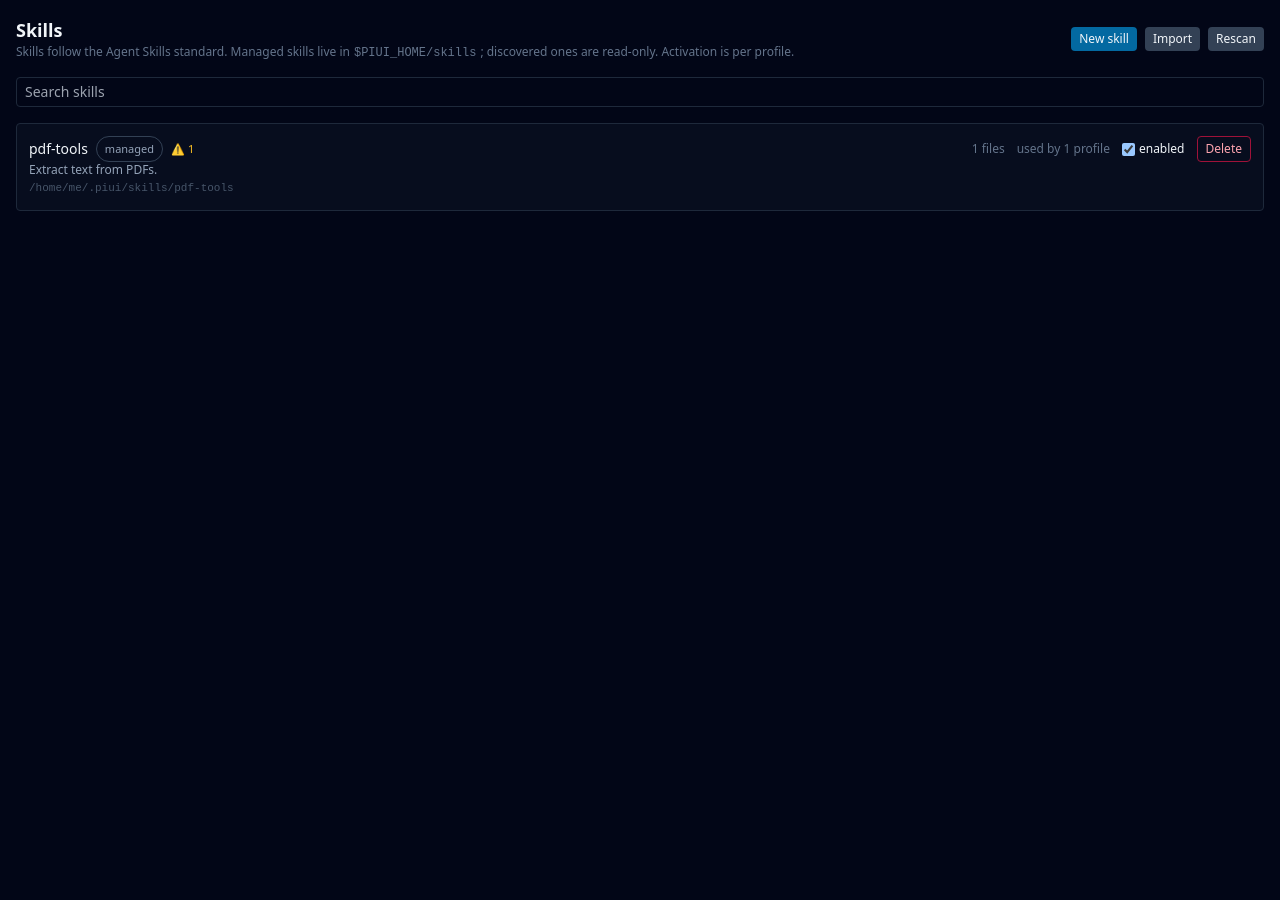
Test: SkillsPage › [05-skills-and-tools#B.5.5] shows the server's refusal when a skill cannot be saved
Click the button with test id "skill-new" at (1104, 38), box [1071,26,1137,50]
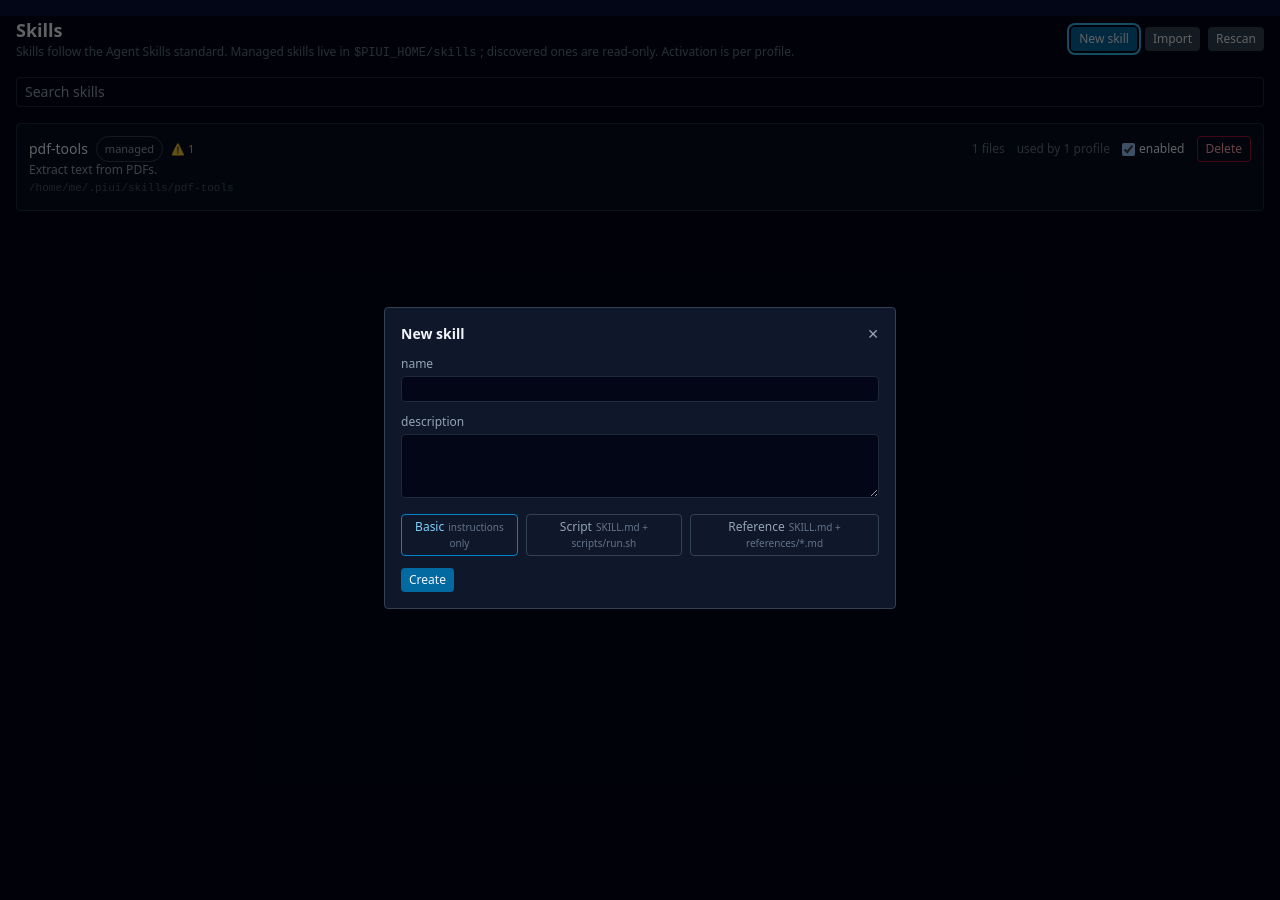
Type "nodesc" into the field with test id "new-skill-name" at (640, 389), box [401,376,879,402]
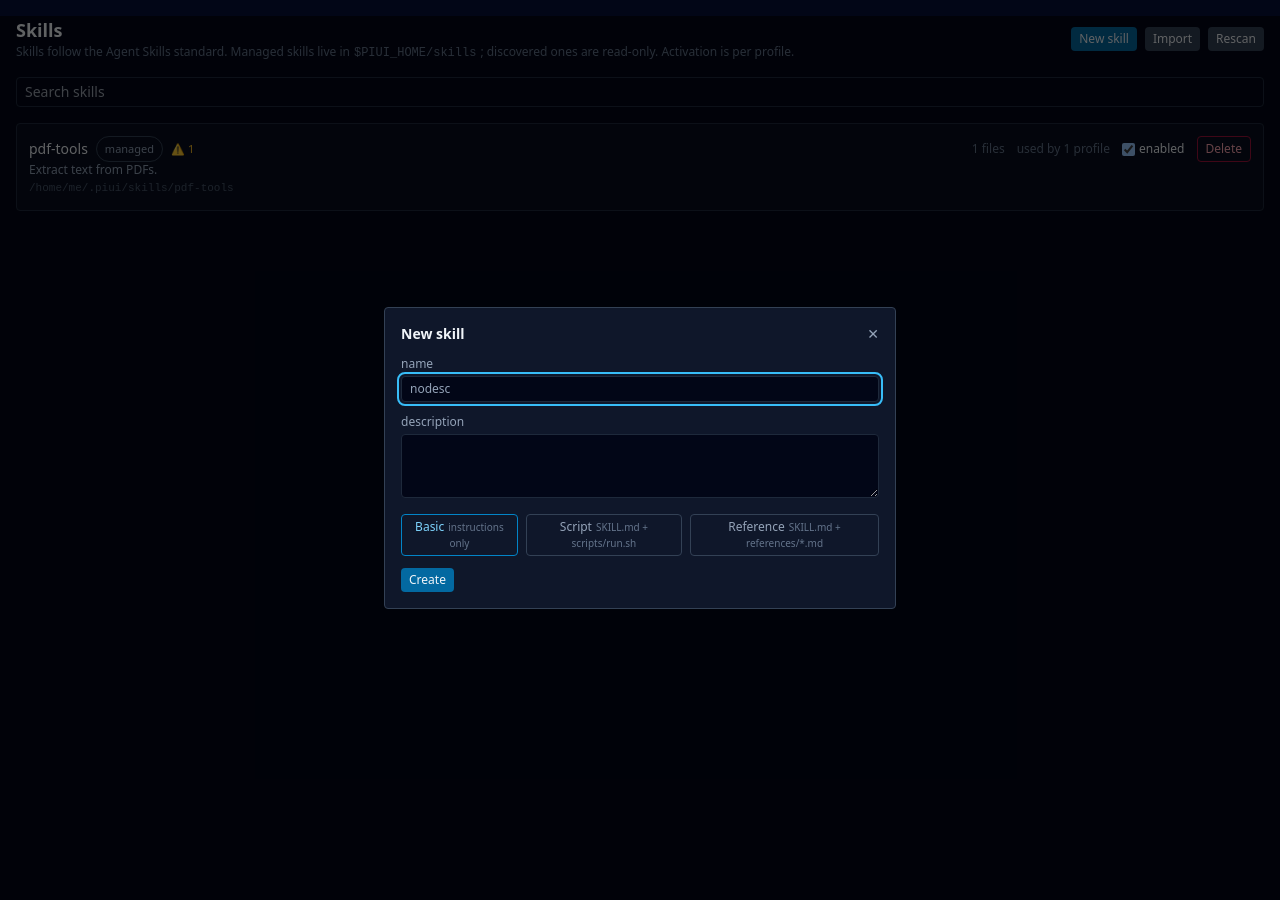
Click the button with test id "new-skill-create" at (427, 580), box [401,568,454,592]
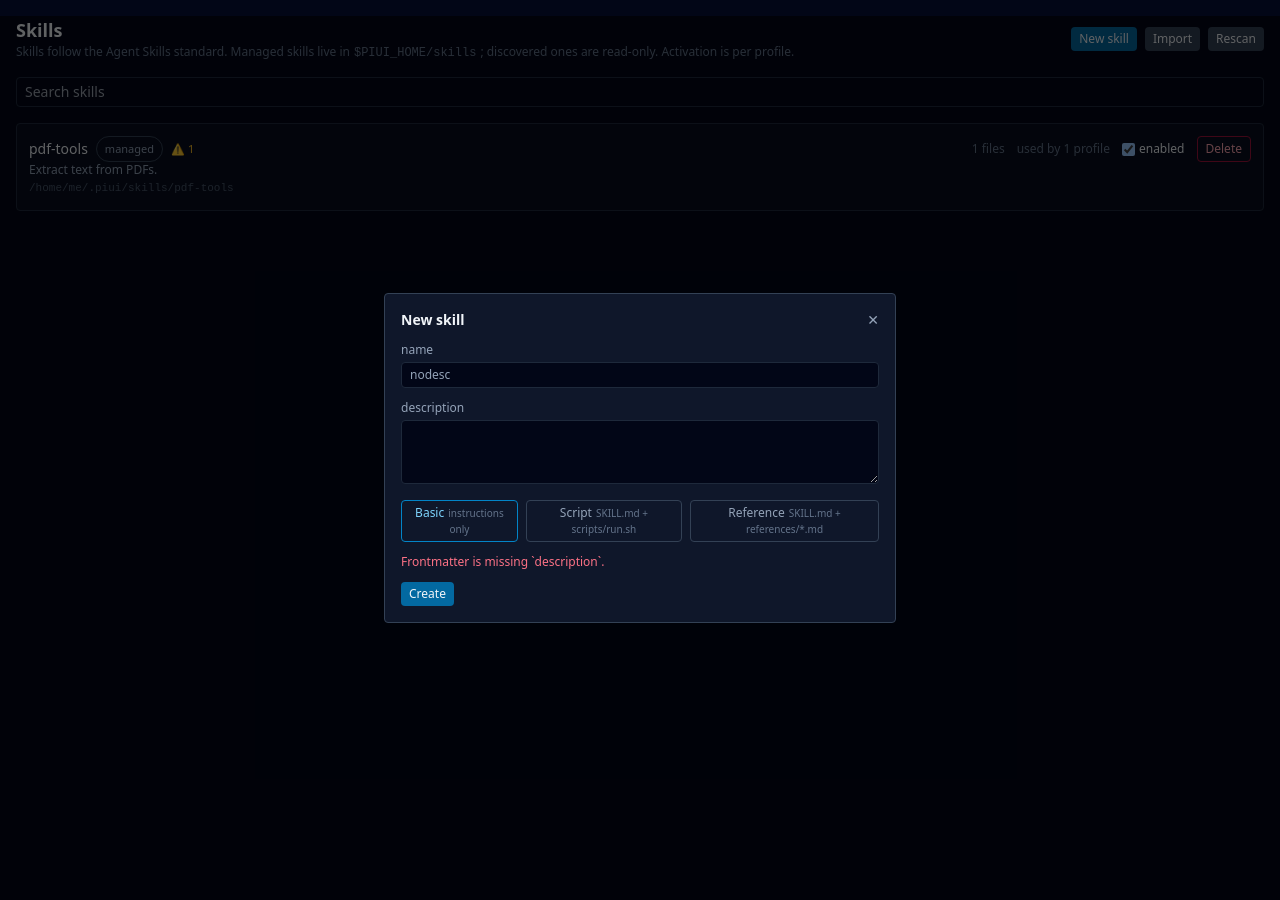
expect the text with test id "new-skill-error" shows "description": met, box [401,553,604,570]
